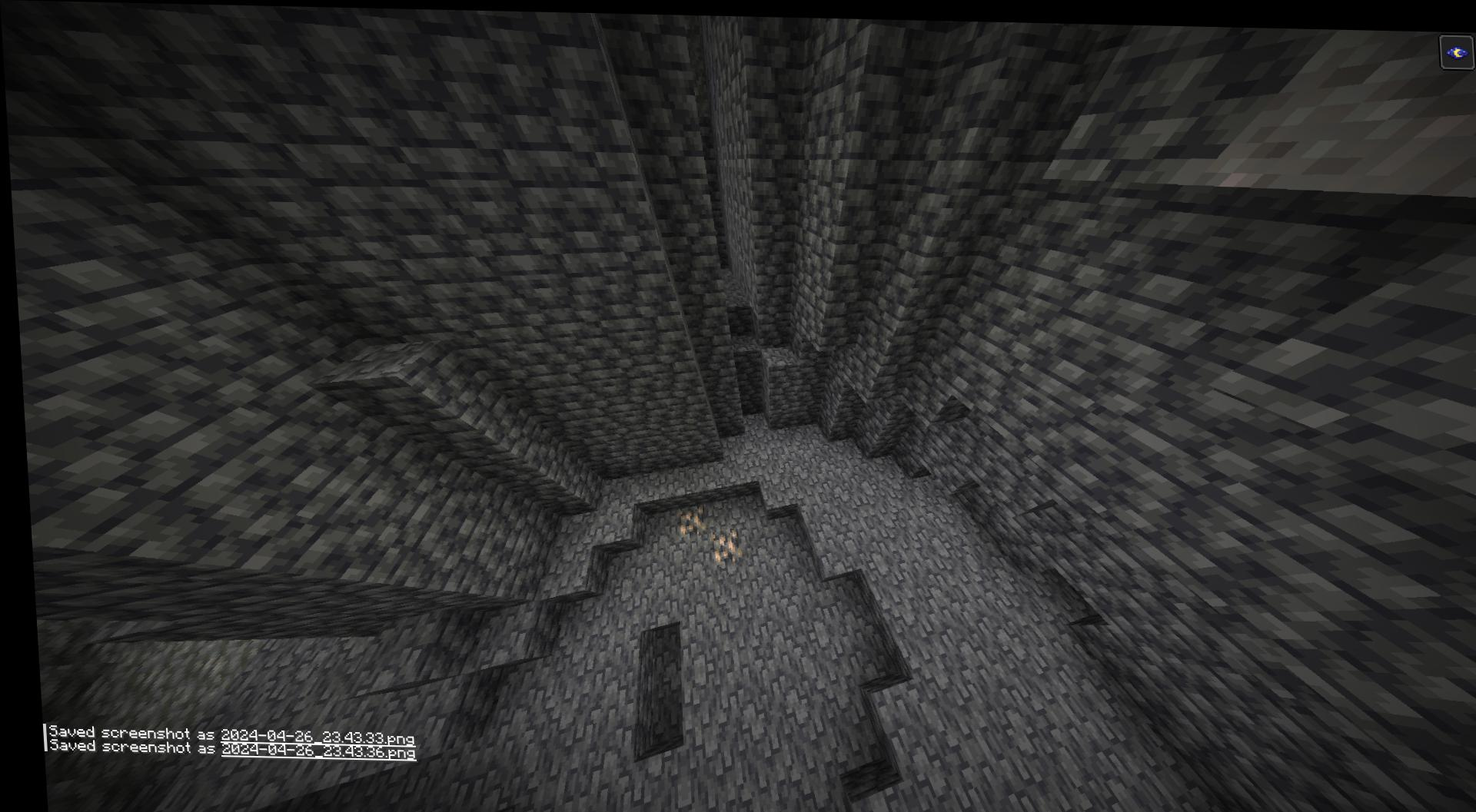iron ore: (705, 528, 743, 559), (669, 505, 699, 533)
